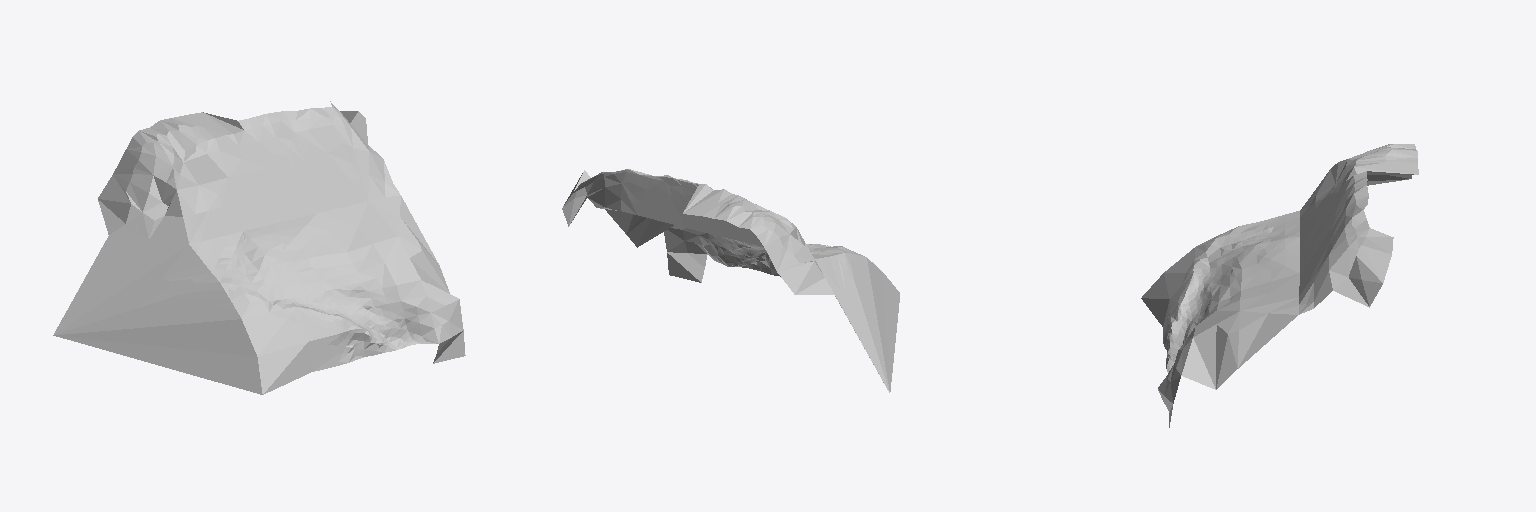
The model's file is berg.obj.
3 renders of one model, left to right at view 1: azimuth 30°, elevation 25°; view 2: azimuth 150°, elevation 25°; view 3: azimuth 270°, elevation 25°, orthographic.
Parts seen in each view (by area): view 1: Berg_Plane; view 2: Berg_Plane; view 3: Berg_Plane.
Part boxes in pixels (x1,y1,x2,y2): Berg_Plane: (53, 101, 465, 394); Berg_Plane: (562, 169, 899, 392); Berg_Plane: (1141, 144, 1418, 427).
Bounding box in the file's own units: 170 × 97.12 × 126.